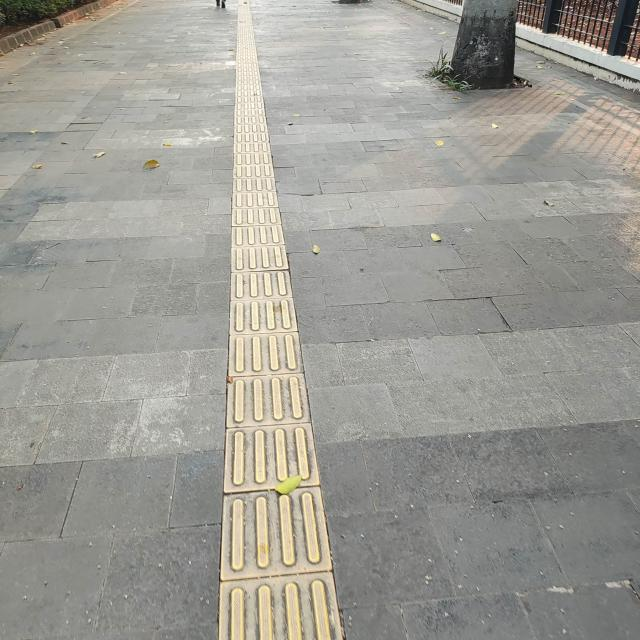lurus: (201, 30, 337, 640)
